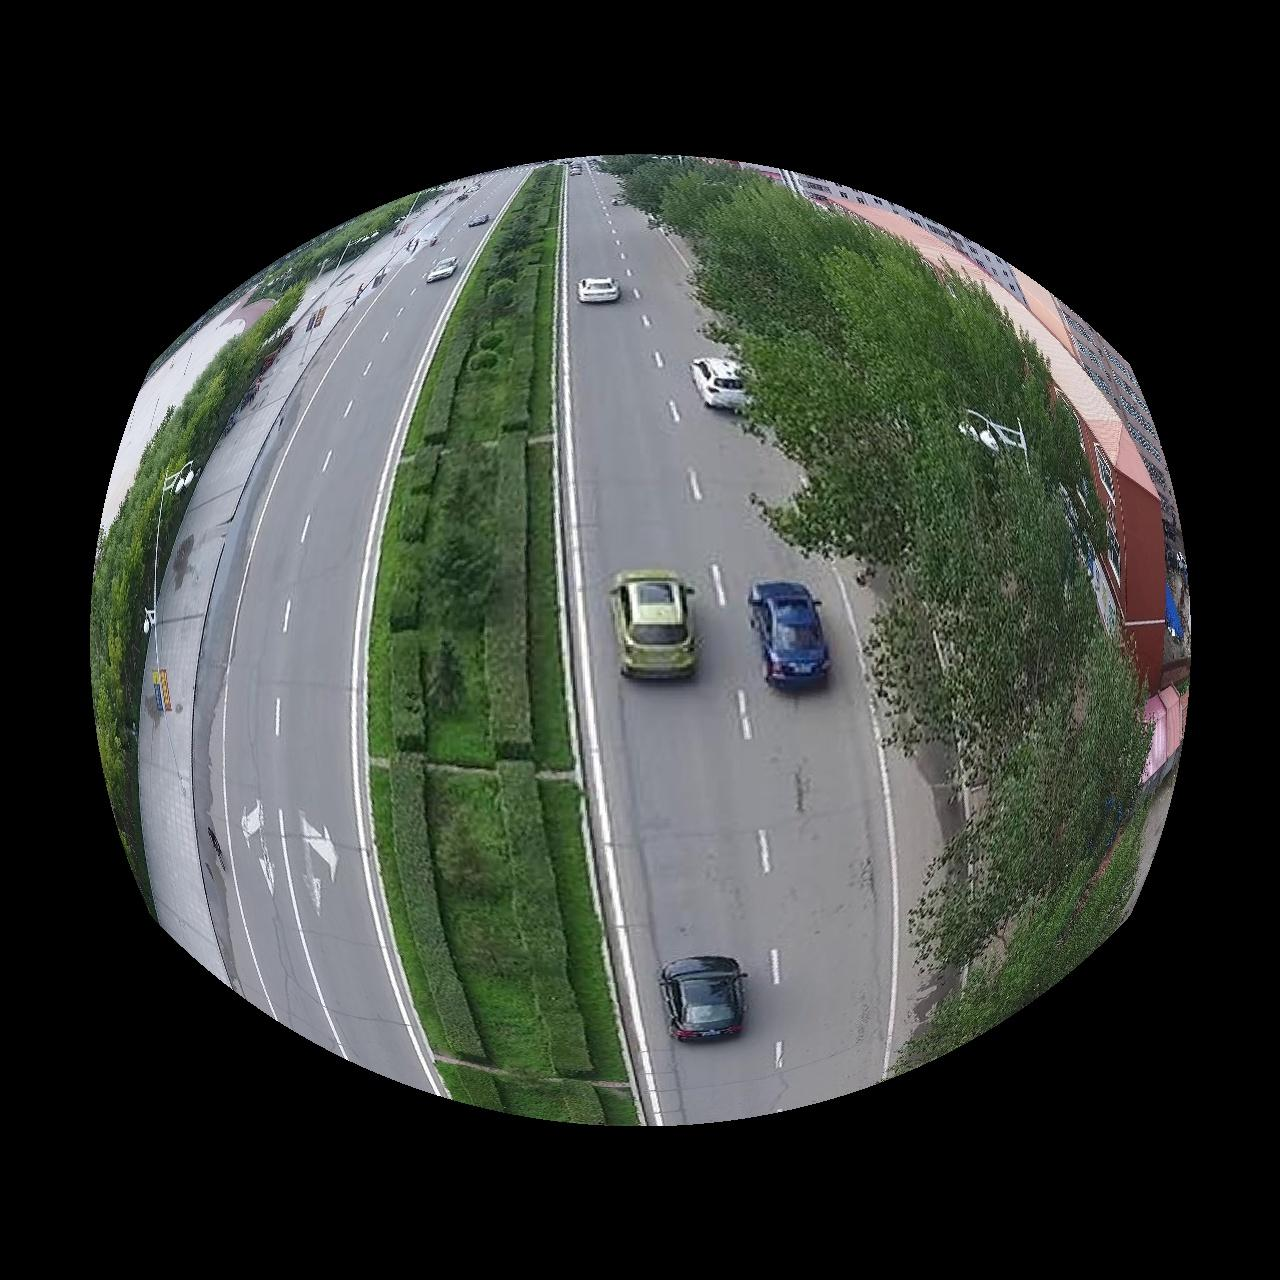cars: (610, 571, 697, 679), (750, 583, 831, 688), (660, 958, 745, 1042), (692, 356, 749, 409), (578, 275, 619, 302)
trees: (602, 155, 1152, 1057), (368, 166, 636, 1126)
